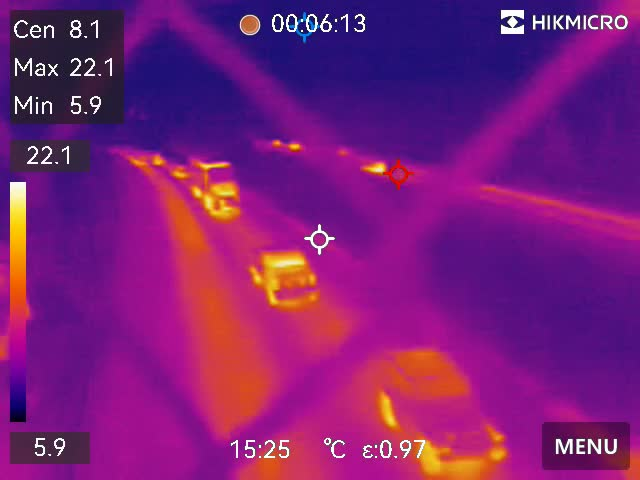heavyTruck: (186, 154, 239, 219)
